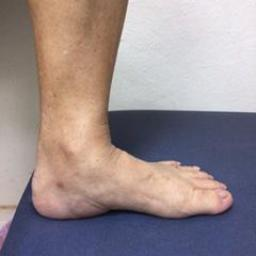Medial View -Left Foot-: (24, 126, 234, 229)
